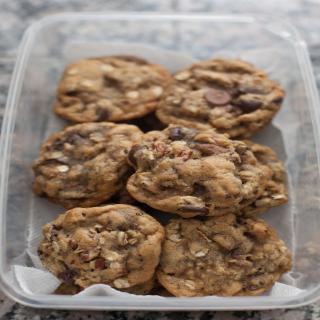Cookie: (31, 52, 295, 297)
